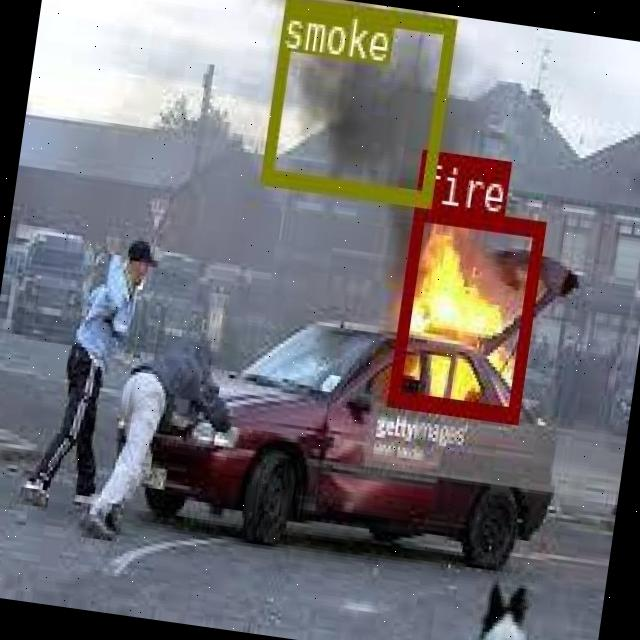fire: (386, 202, 544, 421)
smoke: (259, 0, 455, 204)
